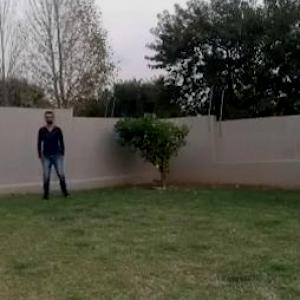follow: (42, 113, 61, 192)
